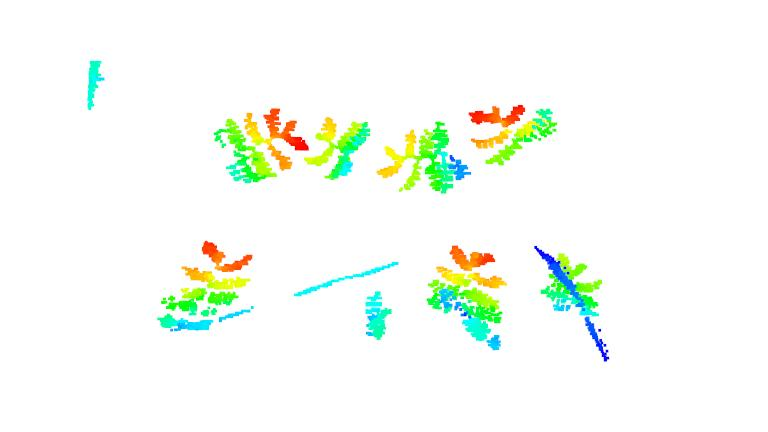chickpea: (151, 241, 255, 333), (429, 242, 503, 353), (217, 106, 309, 186), (376, 122, 471, 193), (467, 100, 559, 167), (540, 247, 602, 323), (303, 117, 374, 180), (361, 287, 388, 344)
